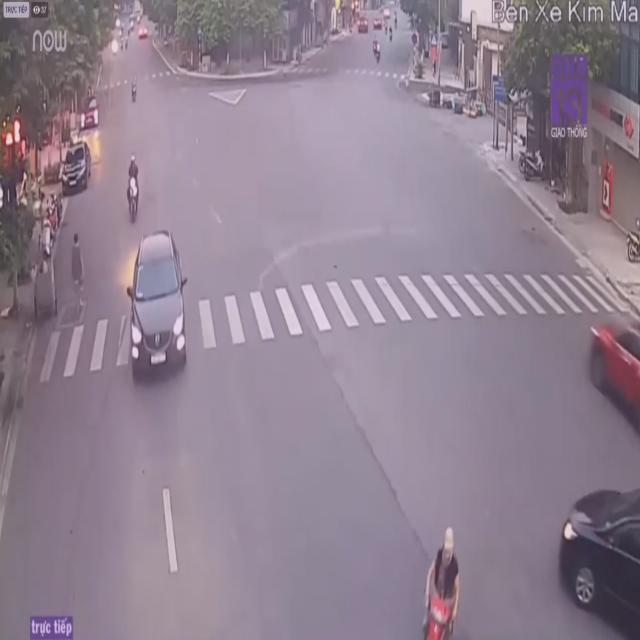car: (555, 486, 637, 638), (130, 228, 192, 378), (592, 318, 640, 424)
motorbike: (422, 527, 464, 639), (125, 153, 143, 225)
